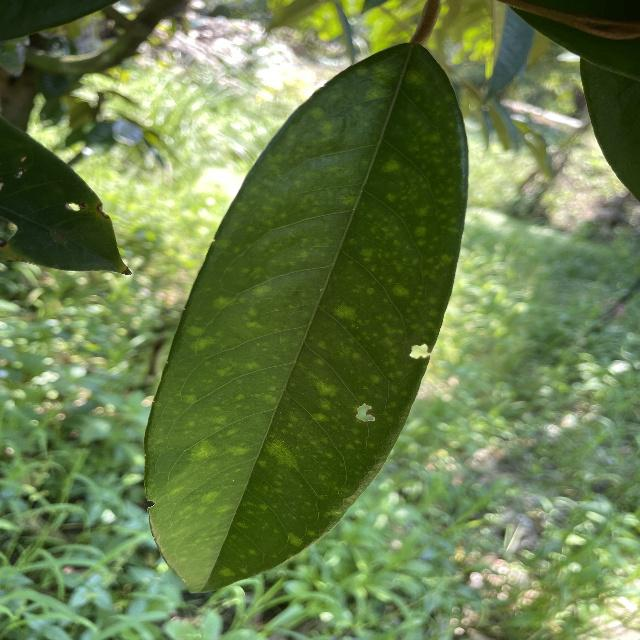Leaf Spot: (139, 33, 477, 612)
